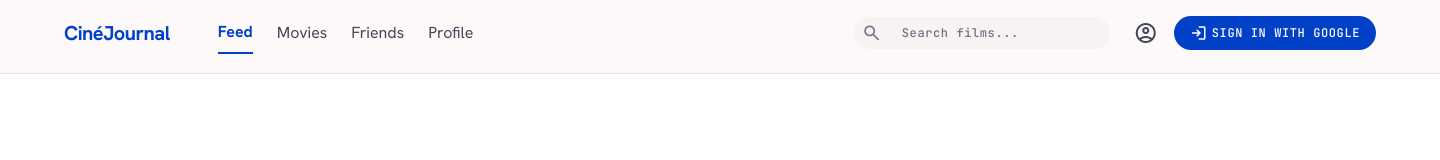
Test: the app bar with nobody signed in › says why when the server has no Google credentials, rather than navigating into the 503
Click the button "Sign in with Google": point(1275, 33) [1174, 16, 1376, 50]
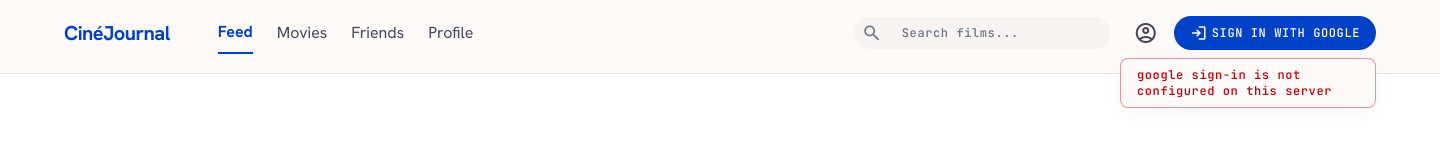
Now the message reads "google sign-in is not configured on this server", box [1137, 67, 1332, 99]
